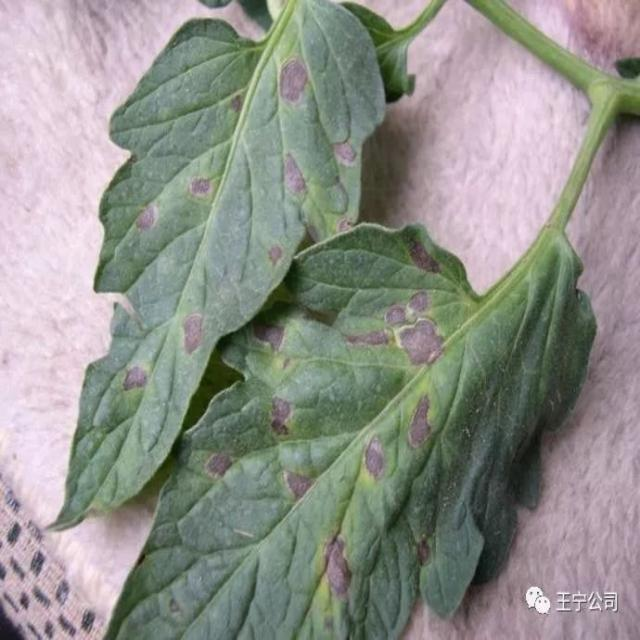Early_blight: (340, 287, 446, 368), (314, 532, 357, 601), (404, 388, 435, 448), (360, 428, 390, 483), (275, 56, 306, 106), (178, 311, 207, 356), (252, 321, 290, 354), (269, 392, 295, 439), (410, 240, 442, 277), (199, 447, 237, 478), (281, 469, 316, 501), (280, 149, 305, 193), (115, 362, 148, 391), (133, 201, 160, 232), (329, 138, 360, 163), (189, 176, 214, 198), (262, 242, 282, 263)
